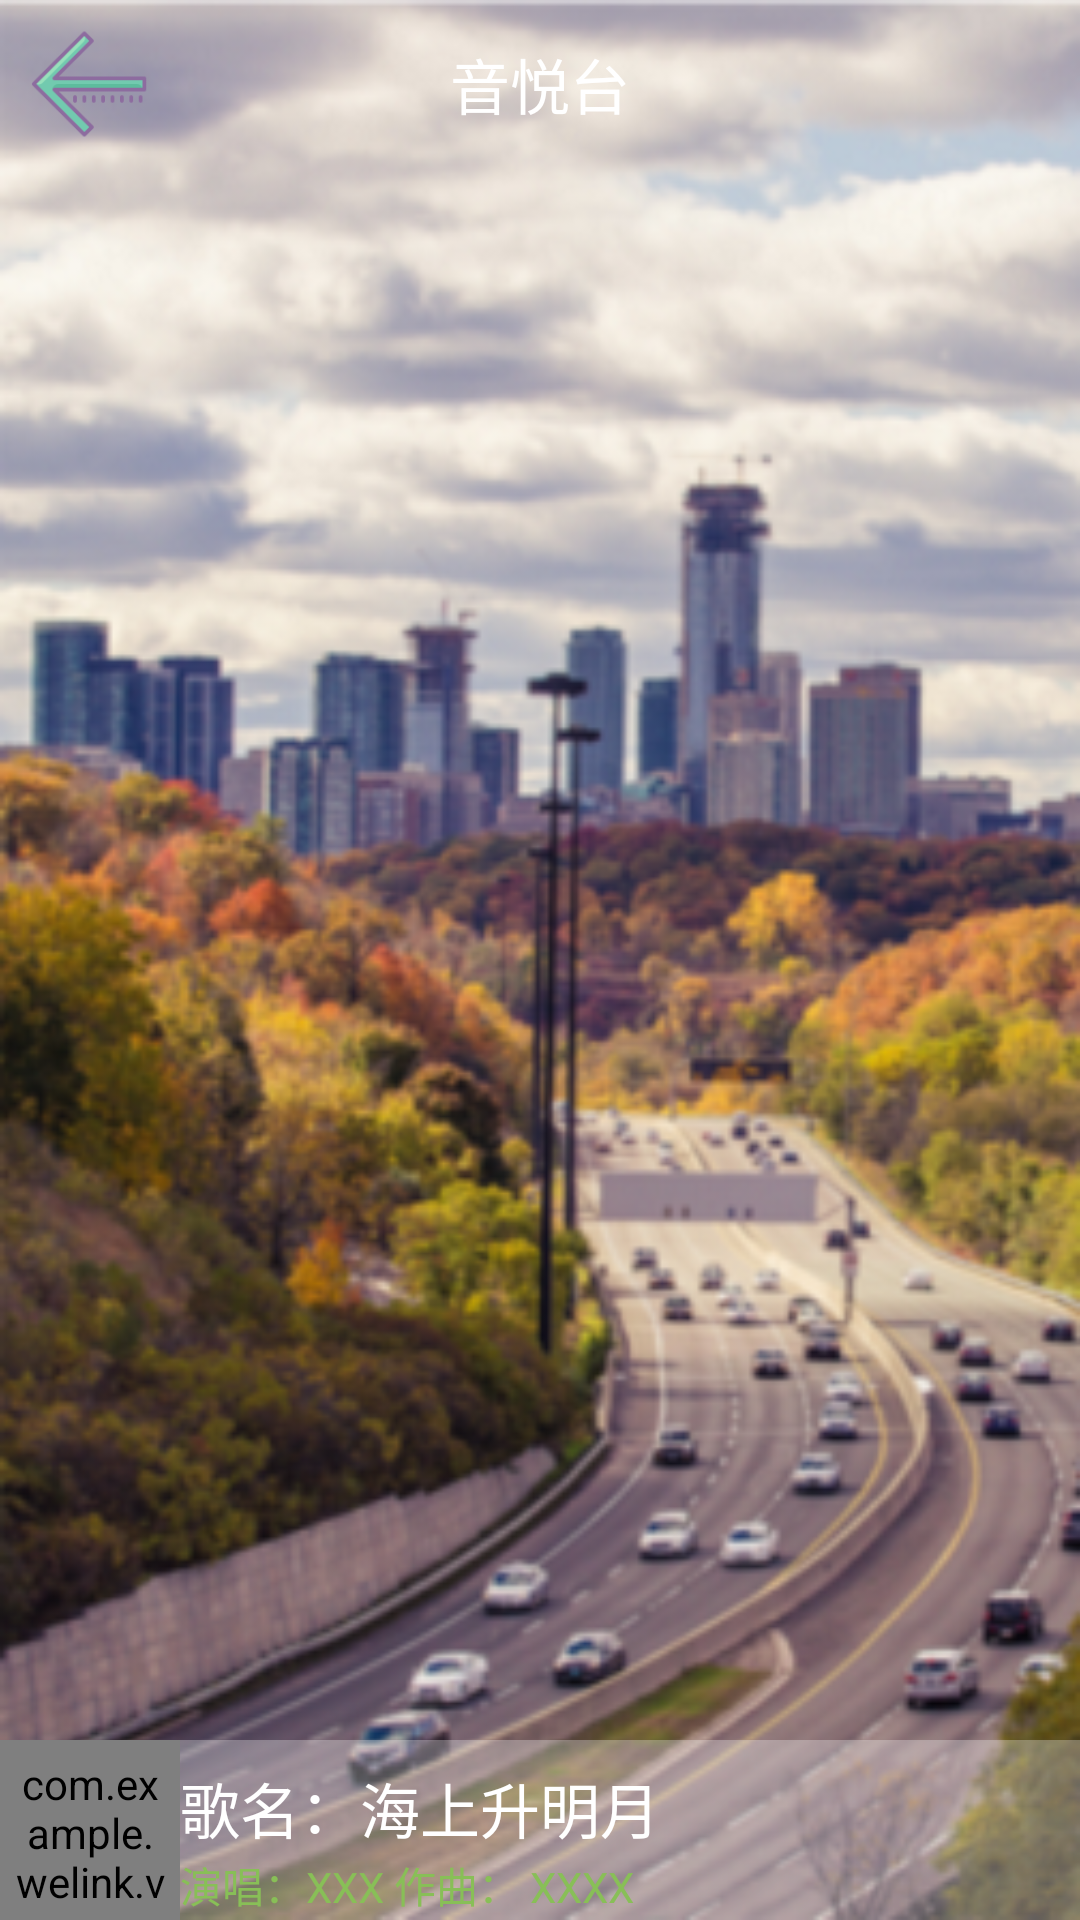

Screen size 1080px x 1920px. Icon name, then its center in pixels as point (x, y):
back: point (90, 84)
